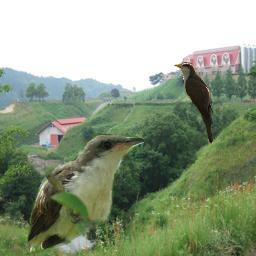Cuckoo: (24, 133, 144, 255), (174, 62, 215, 145)
